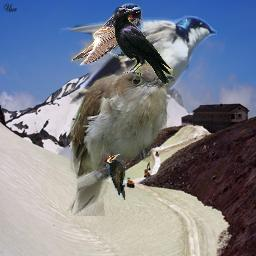Crow: (113, 7, 173, 85)
Cuckoo: (67, 61, 175, 216)
Swallow: (59, 14, 217, 135), (71, 3, 144, 67)
Woodpecker: (102, 153, 129, 200)
